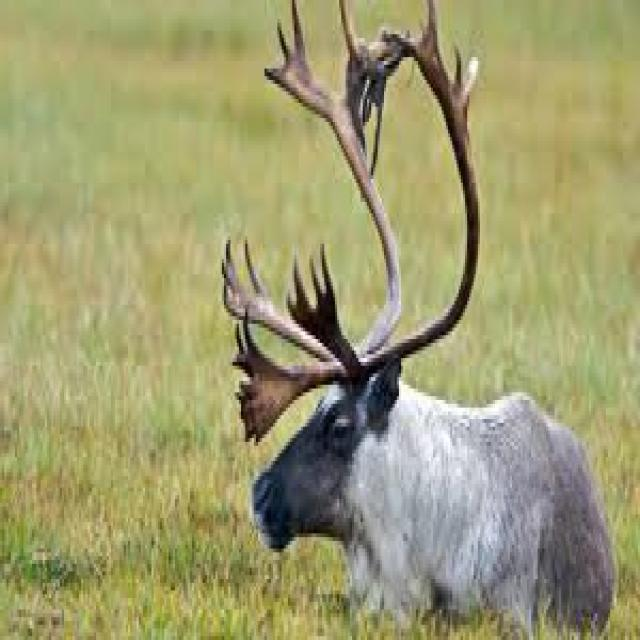reindeer: (226, 0, 614, 632)
